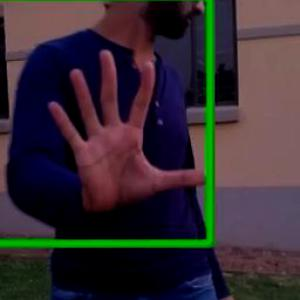follow_hand: (42, 42, 208, 225)
